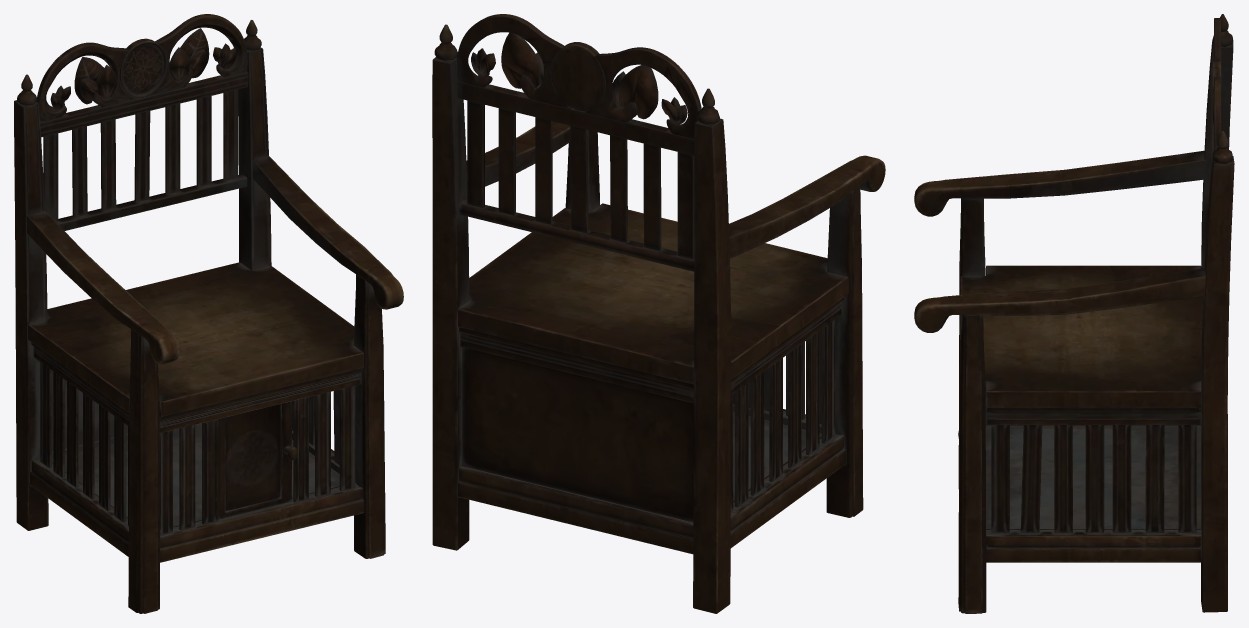
Rendered from gallinera_chair.glb.
The picture shows the model from 3 angles, left to right: view 1: azimuth 30°, elevation 25°; view 2: azimuth 150°, elevation 25°; view 3: azimuth 270°, elevation 25°; orthographic projection. The views are drawn at different scales.
Parts seen in each view (by area): view 1: gallinera_chair; view 2: gallinera_chair; view 3: gallinera_chair.
Part boxes in pixels (<box>): gallinera_chair: <box>14,14,403,613</box>; gallinera_chair: <box>432,14,885,613</box>; gallinera_chair: <box>914,14,1234,613</box>.
Bounding box in the file's own units: 0.5808 × 1.03 × 0.6039.
Materials: 1 (1 with a texture image).
